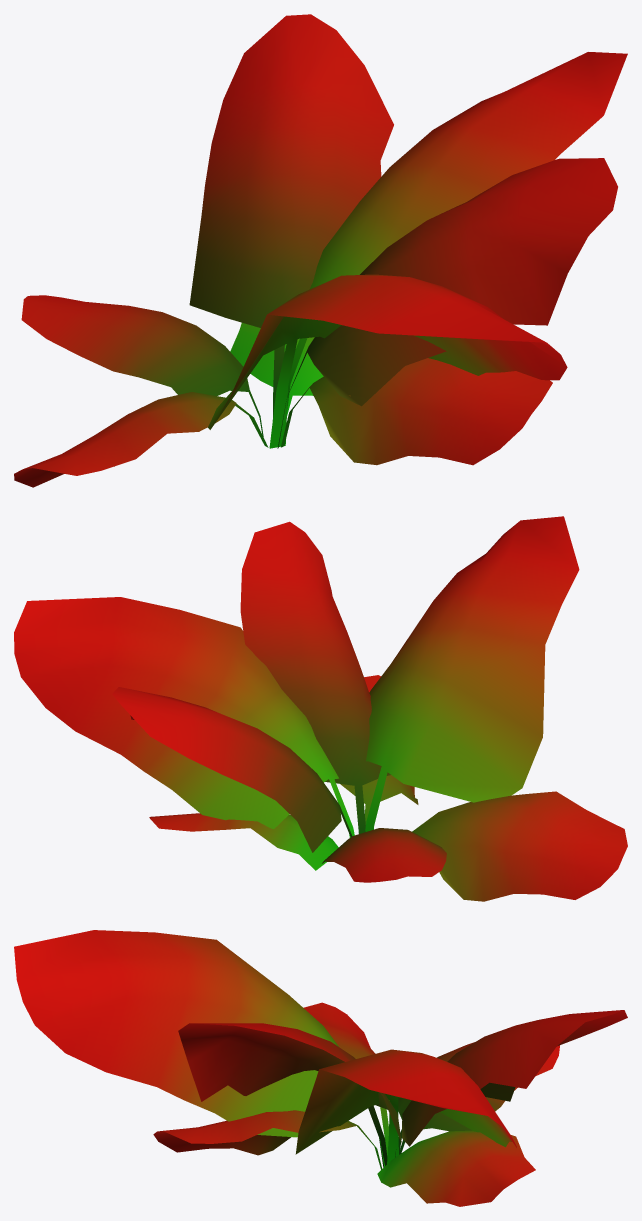
Rendered from Var3_LOD3.fbx.
The picture shows the model from 3 angles, top to bottom: view 1: azimuth 30°, elevation 25°; view 2: azimuth 150°, elevation 25°; view 3: azimuth 270°, elevation 25°; orthographic projection. The views are drawn at different scales.
Visible parts, largest first — view 1: _886a_Var3_LOD3; view 2: _886a_Var3_LOD3; view 3: _886a_Var3_LOD3.
Part boxes in pixels (x1,y1,x2,y2): _886a_Var3_LOD3: (14, 14, 627, 487); _886a_Var3_LOD3: (14, 516, 627, 901); _886a_Var3_LOD3: (14, 930, 627, 1206).
Bounding box in the file's own units: 343 × 147 × 337.
